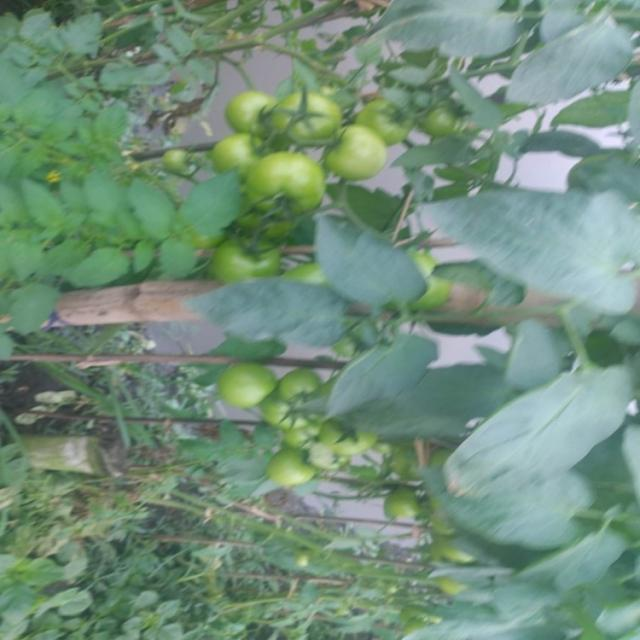tomato: (242, 155, 338, 218), (324, 121, 391, 185), (204, 229, 282, 281), (273, 89, 344, 145), (406, 248, 457, 323), (214, 85, 290, 133), (221, 362, 277, 417), (206, 125, 264, 176), (360, 97, 417, 146), (266, 396, 320, 443), (327, 416, 376, 467), (269, 444, 317, 493), (279, 360, 325, 402), (424, 104, 468, 138), (380, 447, 414, 488), (385, 488, 411, 530), (163, 152, 199, 173)
